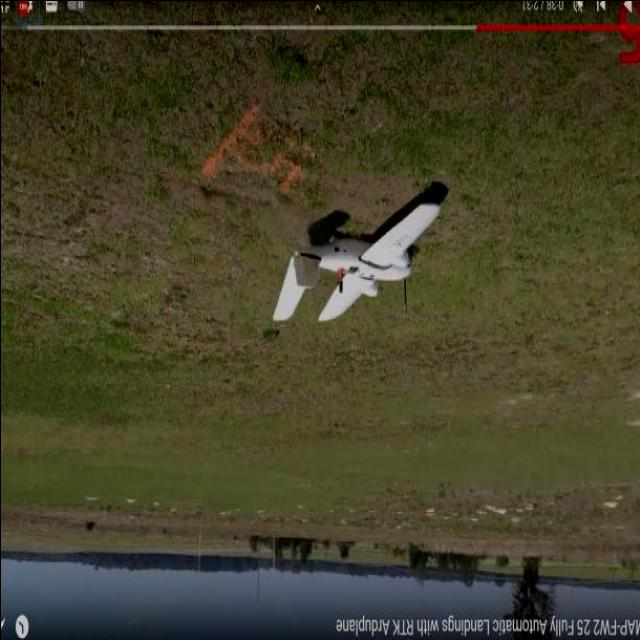plane: (271, 191, 444, 324)
